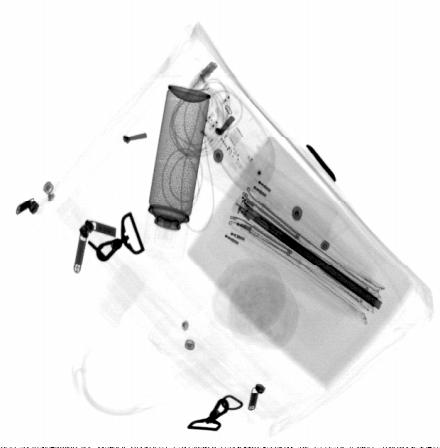Sprayer: (141, 84, 212, 264)
